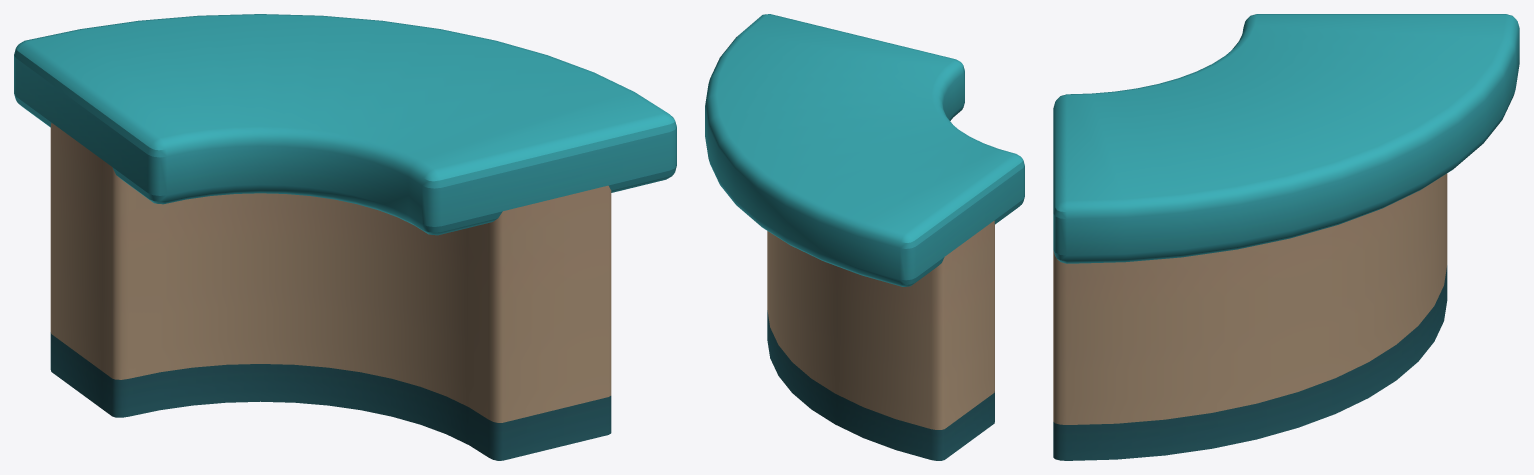
Rendered from StationTable_2_B.glb.
3 renders of one model, left to right at view 1: azimuth 30°, elevation 25°; view 2: azimuth 150°, elevation 25°; view 3: azimuth 270°, elevation 25°, orthographic. The views are drawn at different scales.
Visible parts, largest first — view 1: StationTable_2_B; view 2: StationTable_2_B; view 3: StationTable_2_B.
Part boxes in pixels (x1=…): StationTable_2_B: x1=14, y1=14, x2=676, y2=460; StationTable_2_B: x1=705, y1=14, x2=1024, y2=460; StationTable_2_B: x1=1053, y1=14, x2=1519, y2=460.
Bounding box in the file's own units: 1.48 × 1 × 1.48.
Materials: 1 (1 with a texture image).
